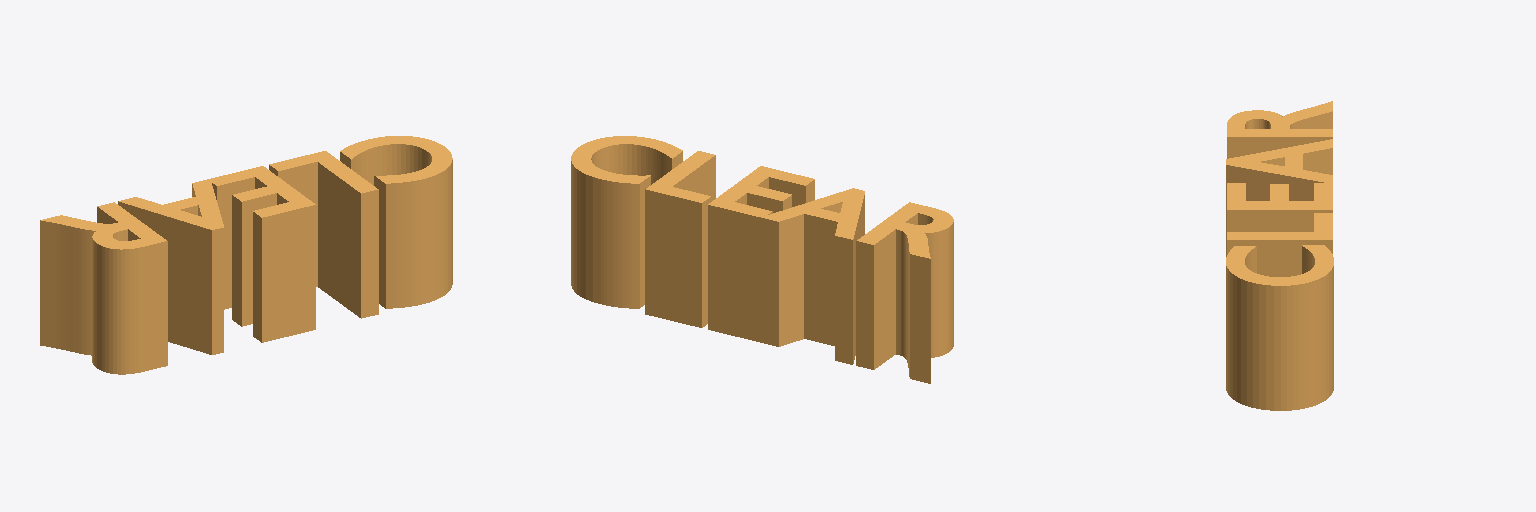
3 views of the same model, side by side, from view 1: azimuth 30°, elevation 25°; view 2: azimuth 150°, elevation 25°; view 3: azimuth 270°, elevation 25° (orthographic).
Parts seen in each view (by area): view 1: テキスト; view 2: テキスト; view 3: テキスト.
Boxes of the visible parts, box(x1,y1,x2,y2) form: テキスト: box(40, 136, 452, 374); テキスト: box(571, 136, 953, 383); テキスト: box(1226, 101, 1333, 410).
Bounding box in the file's own units: 2.98 × 0.94 × 0.74.
Materials: 1 (1 with a texture image).